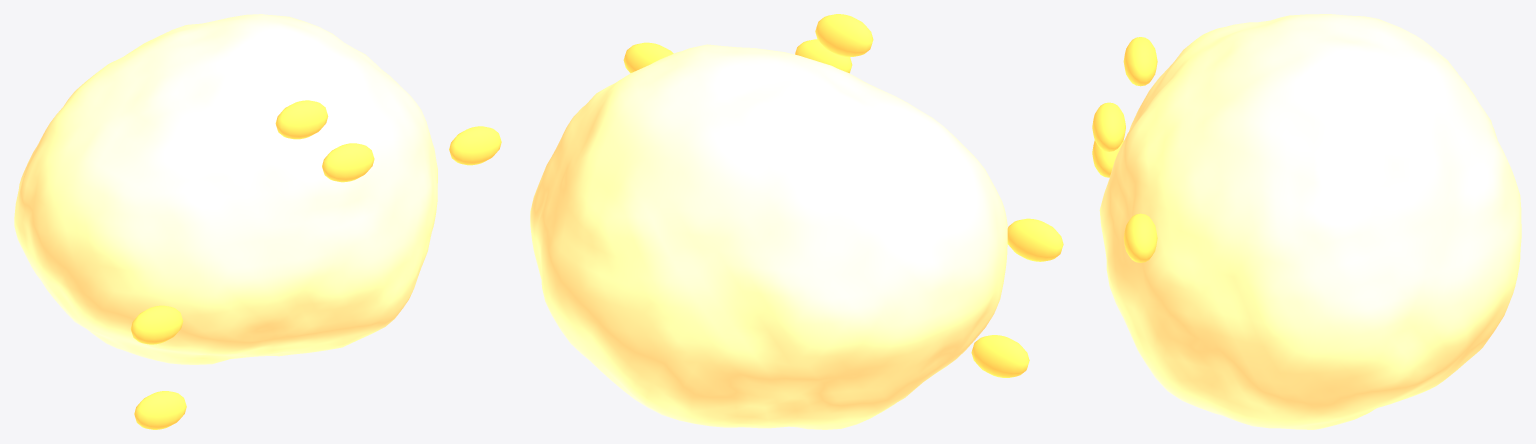
File: meteorite.glb
The picture shows the model from 3 angles, left to right: view 1: azimuth 30°, elevation 25°; view 2: azimuth 150°, elevation 25°; view 3: azimuth 270°, elevation 25°; orthographic projection. The views are drawn at different scales.
Visible parts, largest first — view 1: Icosphere, Sphere.004, Sphere.003, Sphere, Sphere.001, Sphere.002; view 2: Icosphere, Sphere.004, Sphere.002, Sphere.003, Sphere, Sphere.001; view 3: Icosphere, Sphere.004, Sphere, Sphere.001, Sphere.003.
Boxes of the visible parts, <box> form: Icosphere: <box>14,14,437,364</box>; Sphere.004: <box>275,100,328,139</box>; Sphere.003: <box>130,305,183,344</box>; Sphere: <box>449,126,501,165</box>; Sphere.001: <box>322,143,374,182</box>; Sphere.002: <box>134,391,186,429</box>; Icosphere: <box>530,44,1007,429</box>; Sphere.004: <box>815,14,873,57</box>; Sphere.002: <box>971,335,1029,377</box>; Sphere.003: <box>1007,218,1063,261</box>; Sphere: <box>623,42,673,73</box>; Sphere.001: <box>795,39,852,73</box>; Icosphere: <box>1099,14,1521,429</box>; Sphere.004: <box>1123,37,1157,86</box>; Sphere: <box>1123,213,1157,262</box>; Sphere.001: <box>1092,102,1125,151</box>; Sphere.003: <box>1092,140,1123,177</box>.
Size of the model in its own units: 1.4 by 1.06 by 1.14.
